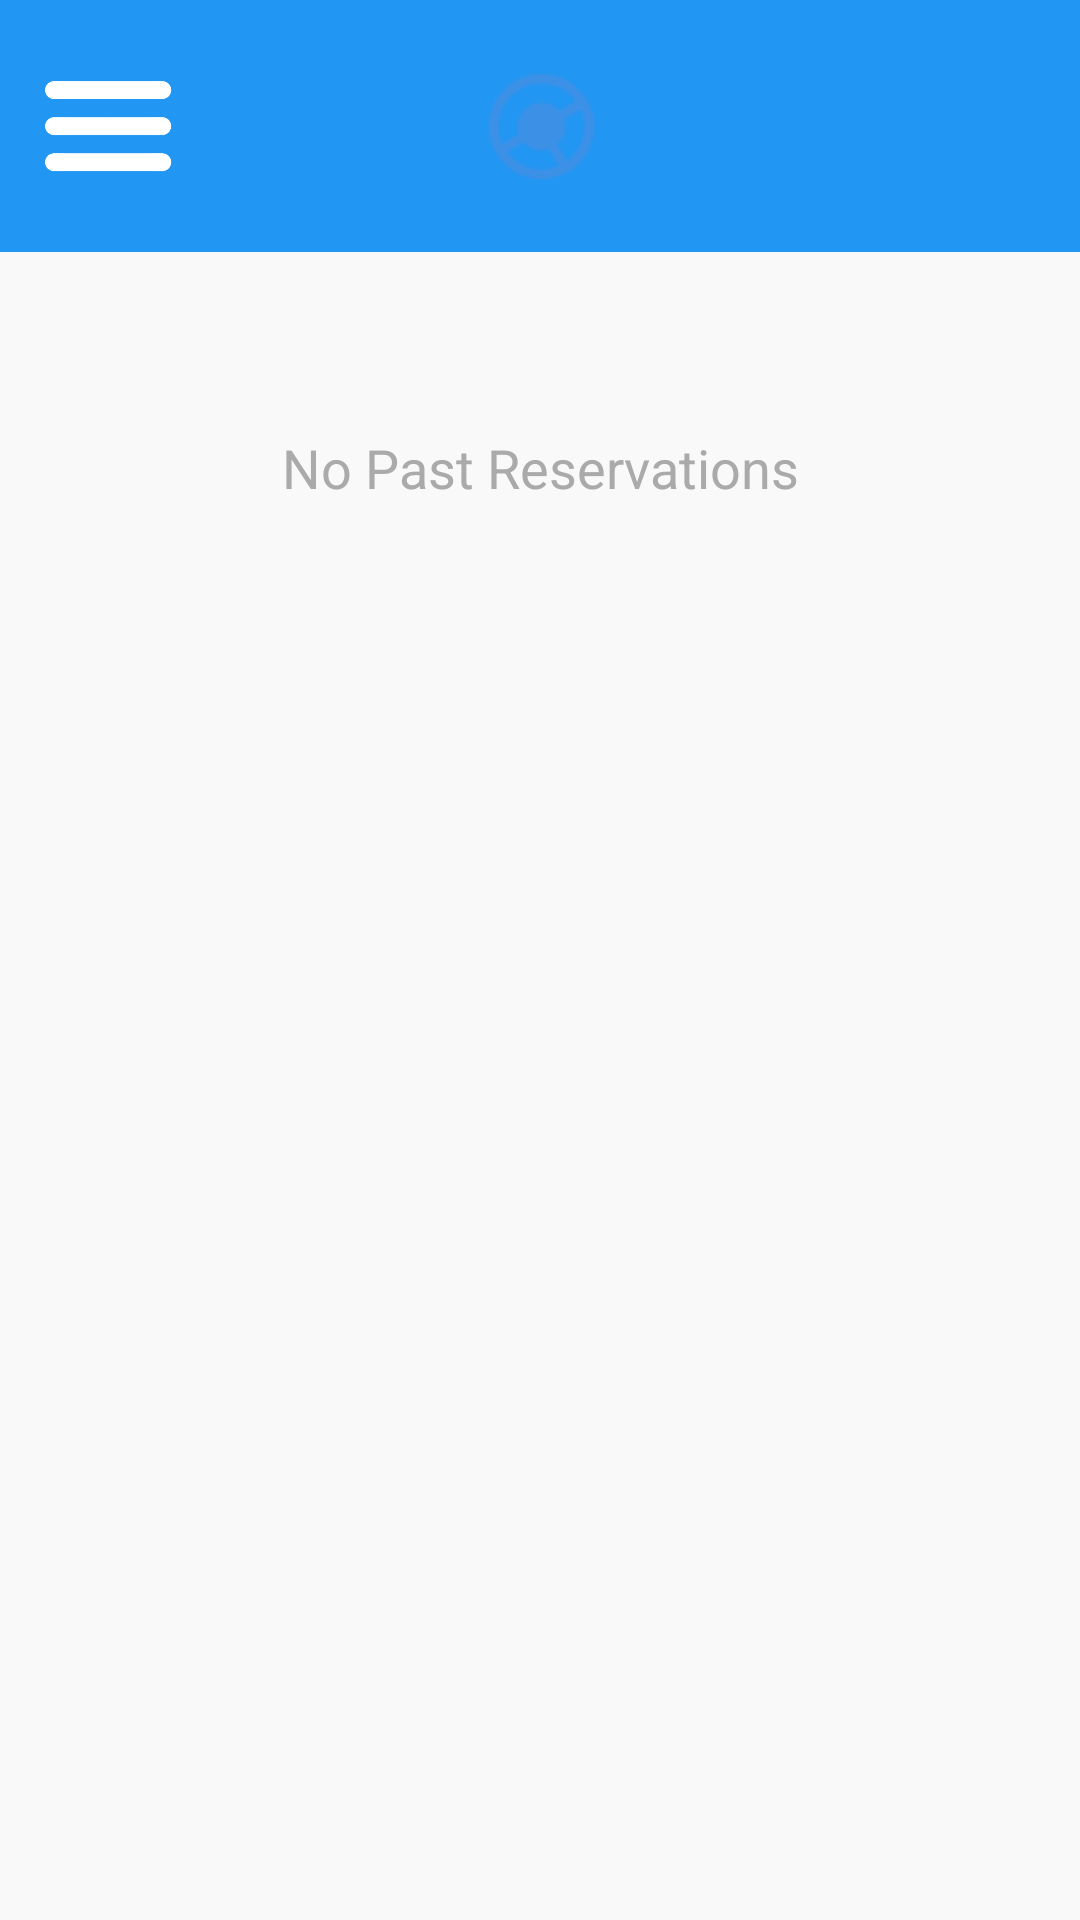

Screen size 1080px x 1920px. Icon name, then its center in pixels as [x,y]:
Menu: [108,126]
